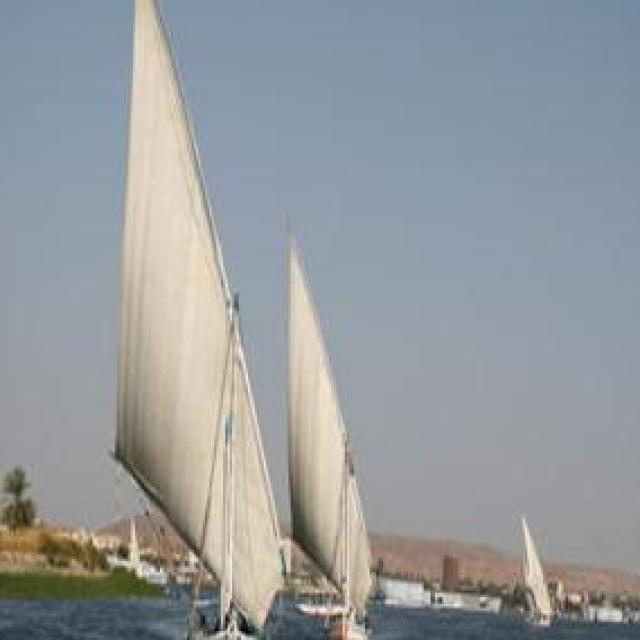sailboat: (95, 2, 277, 640), (264, 243, 399, 640), (514, 493, 577, 640), (611, 477, 640, 640)
